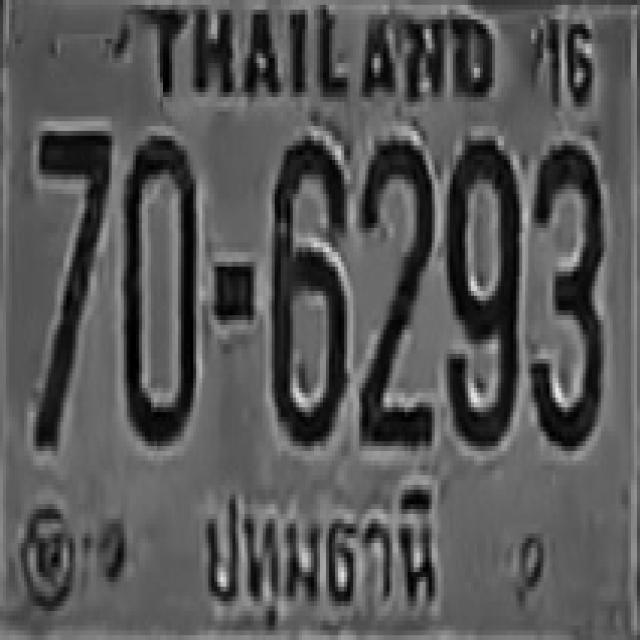0: (121, 131, 196, 441), (447, 136, 519, 446)
2: (359, 136, 432, 446)
3: (530, 141, 602, 446)
6: (270, 133, 346, 444)
7: (35, 126, 110, 446)
9: (445, 136, 518, 446)
PathumThani: (180, 476, 448, 622)
